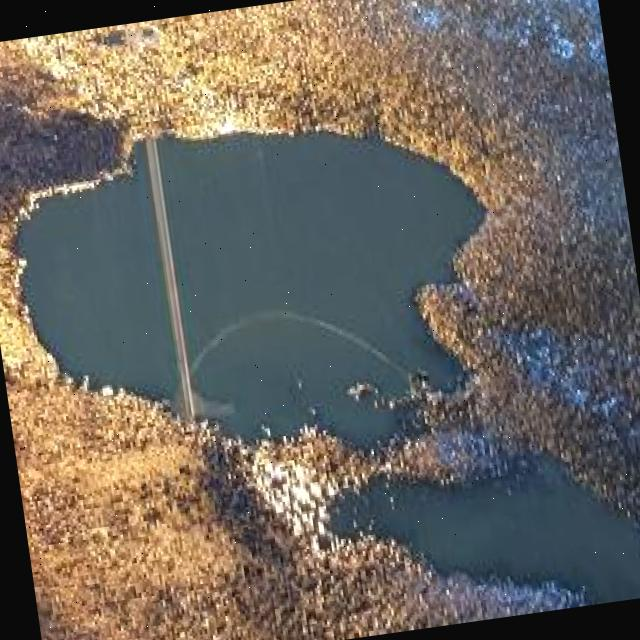waterlogging: (15, 60, 640, 640)
